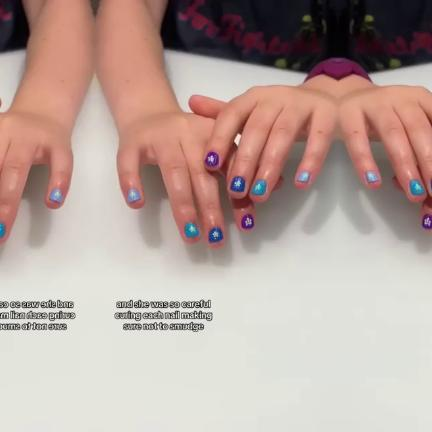Nail: (229, 176, 244, 193), (207, 227, 222, 243), (183, 222, 198, 238), (250, 180, 265, 195), (409, 180, 424, 195), (204, 152, 218, 167), (240, 214, 253, 230), (127, 189, 140, 203), (48, 189, 61, 203), (421, 214, 432, 230), (296, 171, 309, 182), (365, 171, 378, 182), (0, 222, 5, 238), (430, 178, 432, 192)
